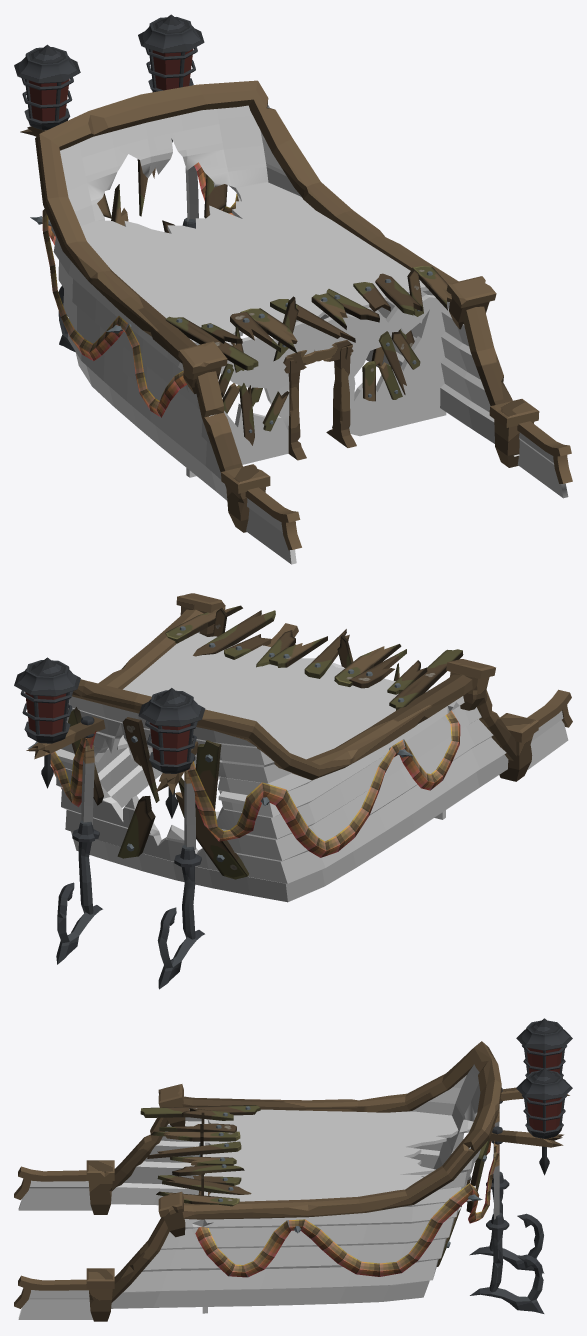
The model's file is SM_Veh_Ship_M_Back_04.fbx.
The picture shows the model from 3 angles, top to bottom: view 1: azimuth 30°, elevation 25°; view 2: azimuth 150°, elevation 25°; view 3: azimuth 270°, elevation 25°; orthographic projection. The views are drawn at different scales.
Visible parts, largest first — view 1: SM_Veh_Ship_M_Back_04; view 2: SM_Veh_Ship_M_Back_04; view 3: SM_Veh_Ship_M_Back_04.
Part boxes in pixels (x1,y1,x2,y2): SM_Veh_Ship_M_Back_04: (14, 14, 572, 564); SM_Veh_Ship_M_Back_04: (14, 593, 572, 989); SM_Veh_Ship_M_Back_04: (14, 1018, 572, 1321).
Size of the model in its own units: 750 by 705 by 1427.
